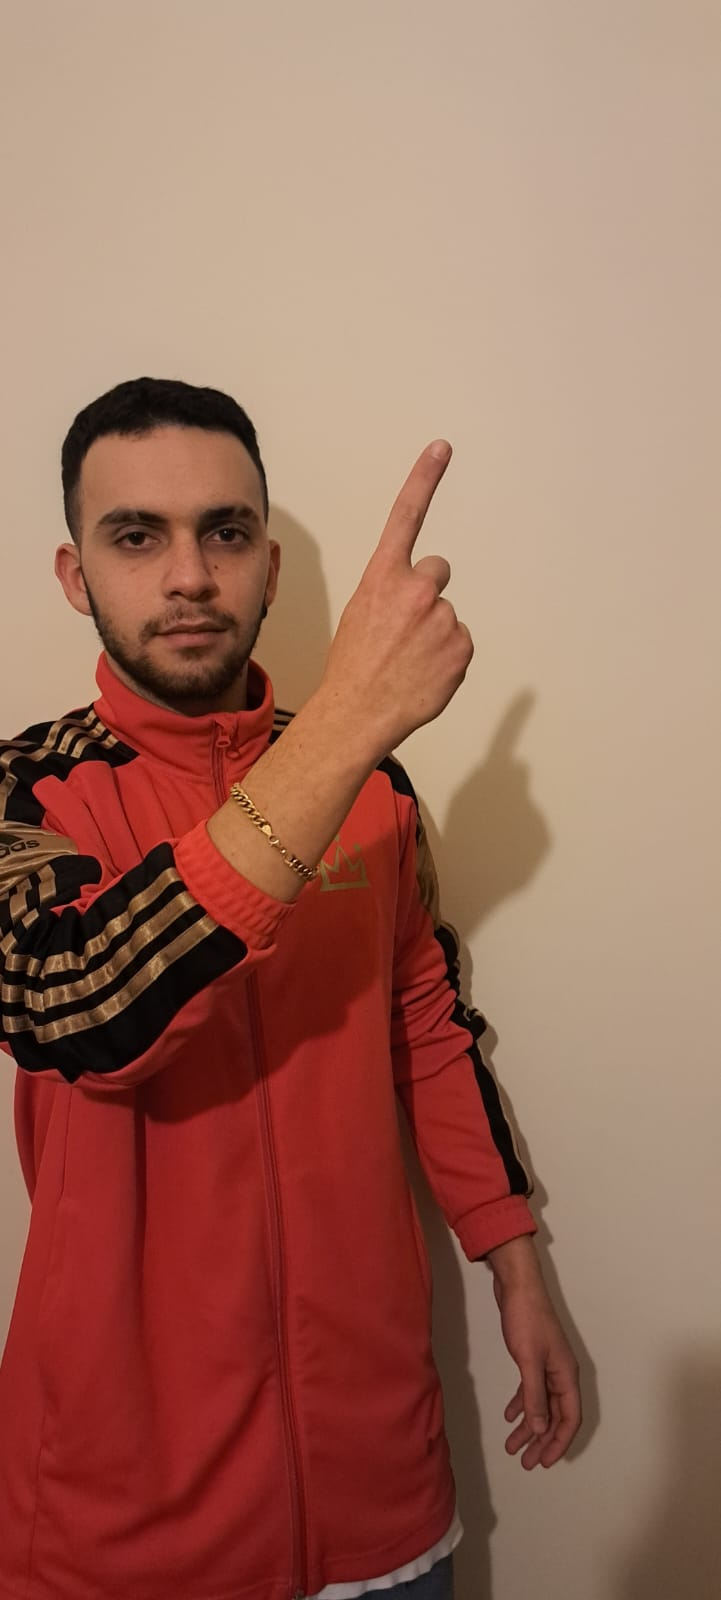joke: (315, 432, 484, 778)
